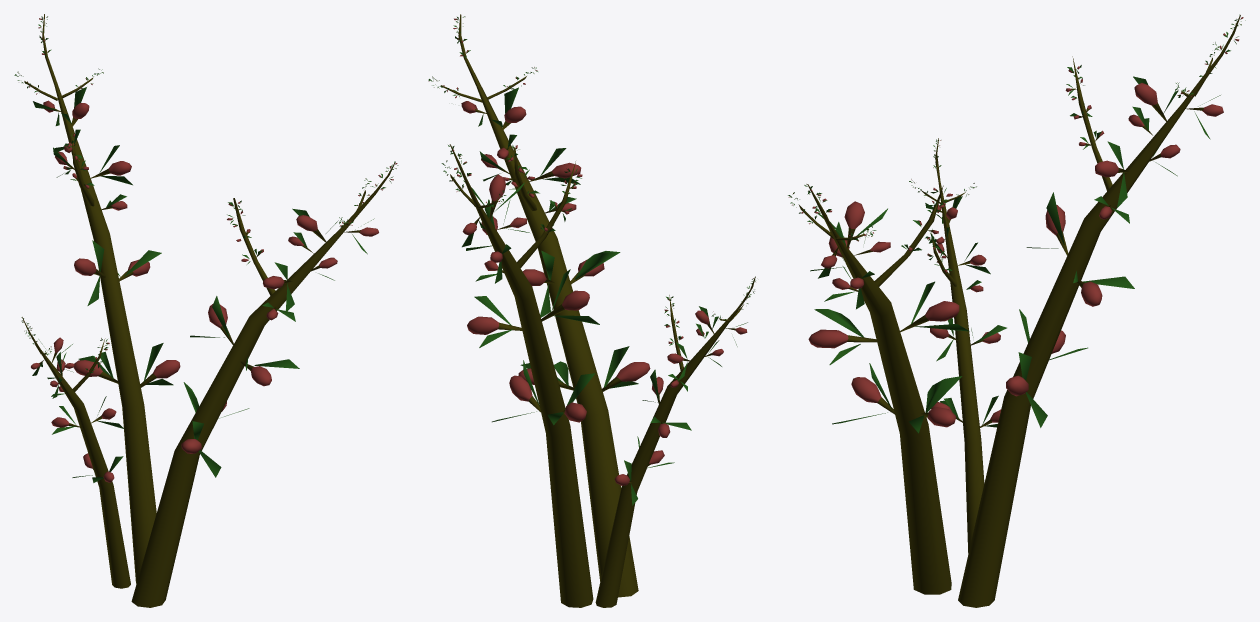
Rendered from SM_Catuaba_001_LOD2.fbx.
3 views of the same model, side by side, from view 1: azimuth 30°, elevation 25°; view 2: azimuth 150°, elevation 25°; view 3: azimuth 270°, elevation 25° (orthographic). The views are drawn at different scales.
Parts seen in each view (by area): view 1: Catuaba; view 2: Catuaba; view 3: Catuaba.
Boxes of the visible parts, x1,y1,x2,y2 form: Catuaba: (14,14,398,607); Catuaba: (428,14,755,607); Catuaba: (788,14,1245,607).
Size of the model in its own units: 38.95 by 55.9 by 39.49.
